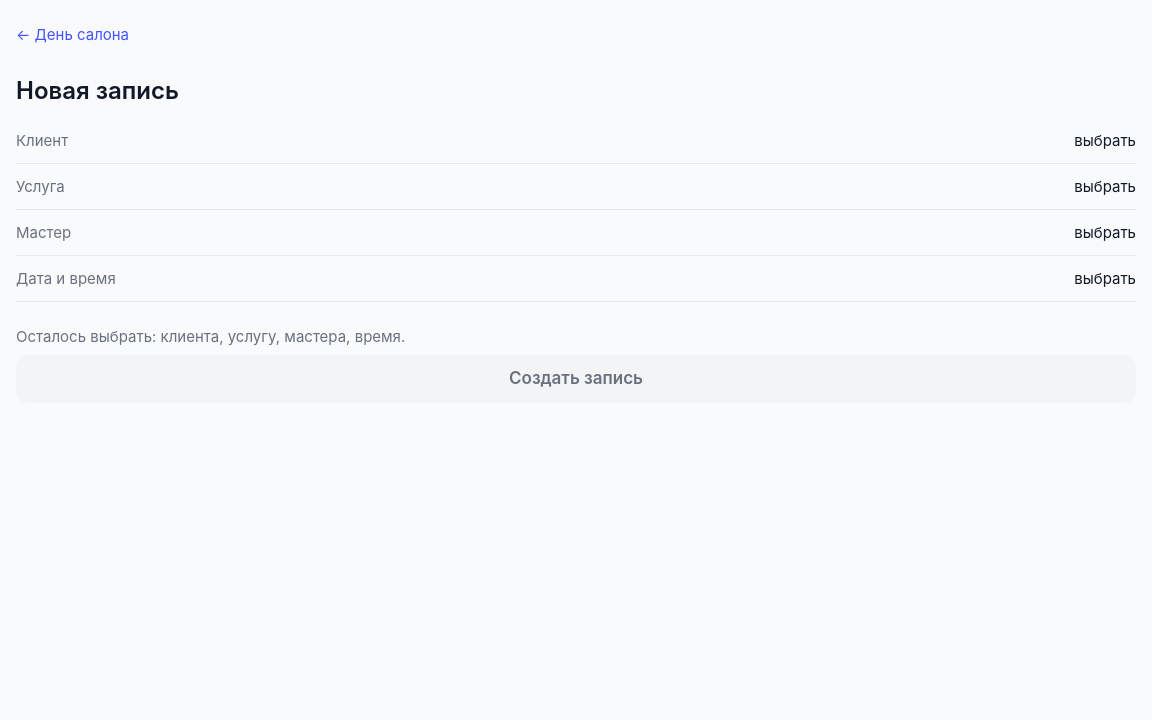
Test case: availability is not asked before it can mean anything (§12, §17) › refuses to query slots without service and master
What coordinates should you click on to do the following:
click the button labelled "Дата и время выбрать"
I would click on:
 (66, 278)
Its box is [16,256,1136,302].
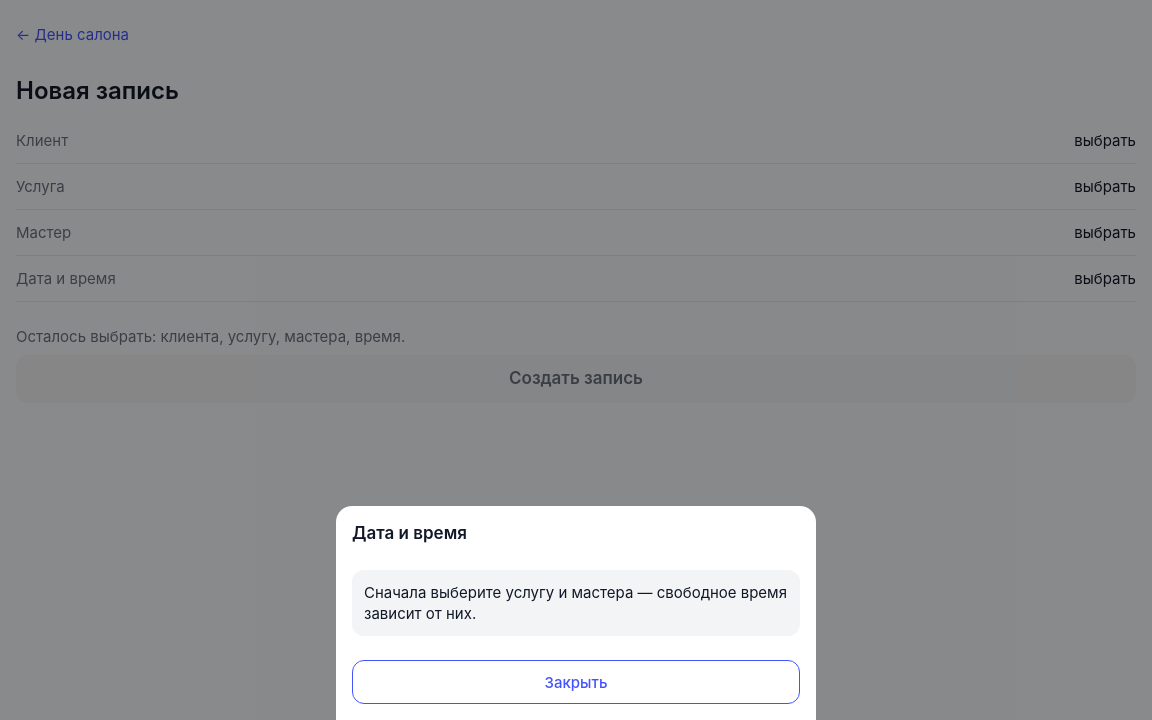
Result: the text "Сначала выберите услугу и мастера — свободное время зависит от них." is shown at [352,570,800,636]
